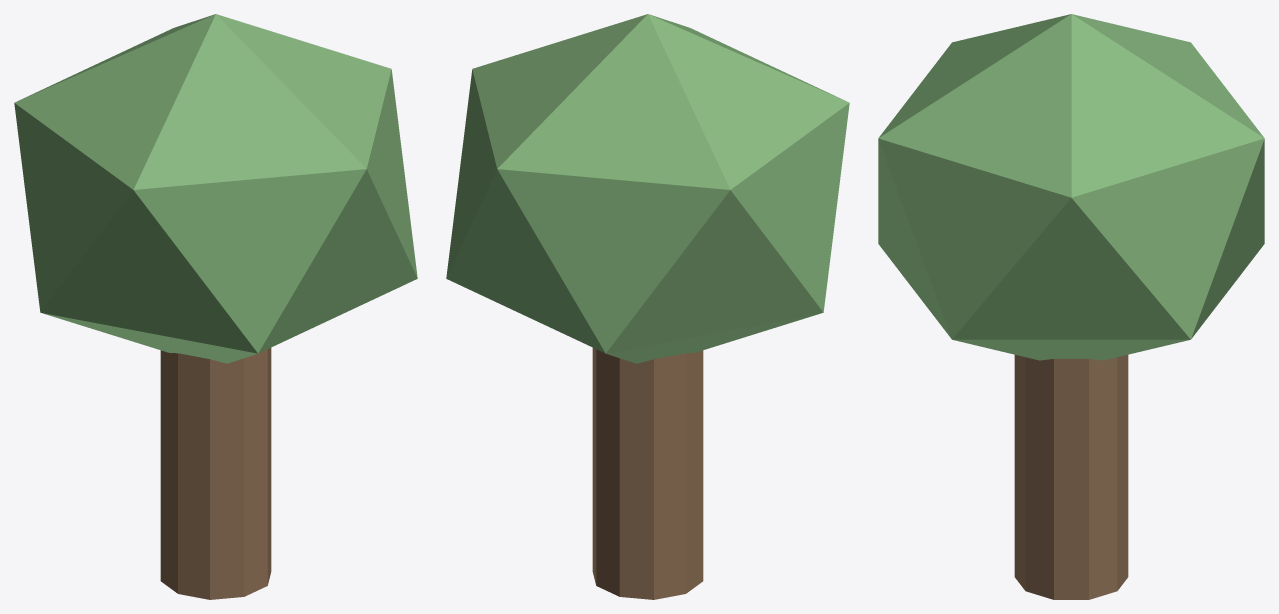
The model's file is tree.glb.
3 renders of one model, left to right at view 1: azimuth 30°, elevation 25°; view 2: azimuth 150°, elevation 25°; view 3: azimuth 270°, elevation 25°, orthographic.
Visible parts, largest first — view 1: tree; view 2: tree; view 3: tree.
Boxes of the visible parts, x1=… form: tree: x1=14, y1=14, x2=417, y2=599; tree: x1=446, y1=14, x2=849, y2=599; tree: x1=878, y1=14, x2=1264, y2=599.
Size of the model in its own units: 1.29 by 1.97 by 1.22.
